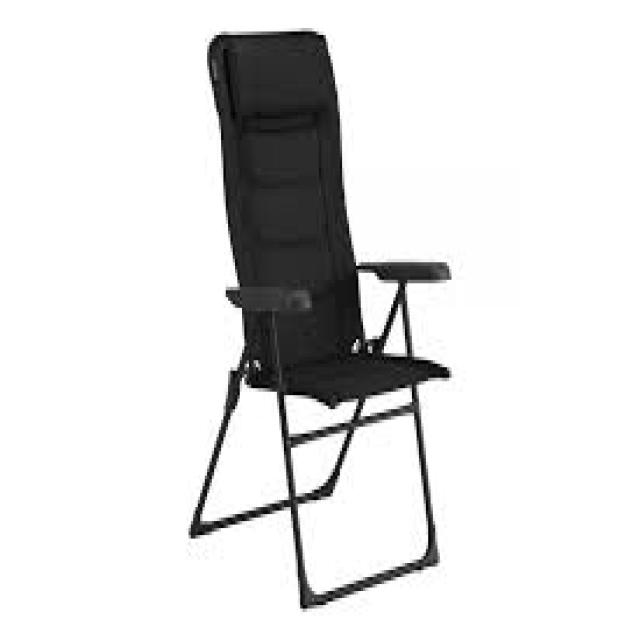chair: (144, 10, 484, 640)
